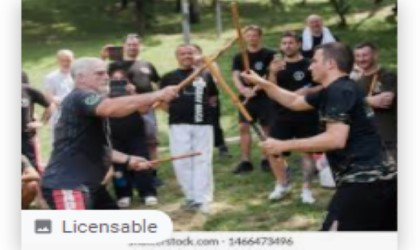baston_e: (211, 75, 269, 136), (225, 0, 254, 65), (178, 40, 204, 99), (152, 150, 191, 165)
baston_v: (146, 98, 162, 112), (270, 152, 283, 163), (193, 147, 206, 156)
